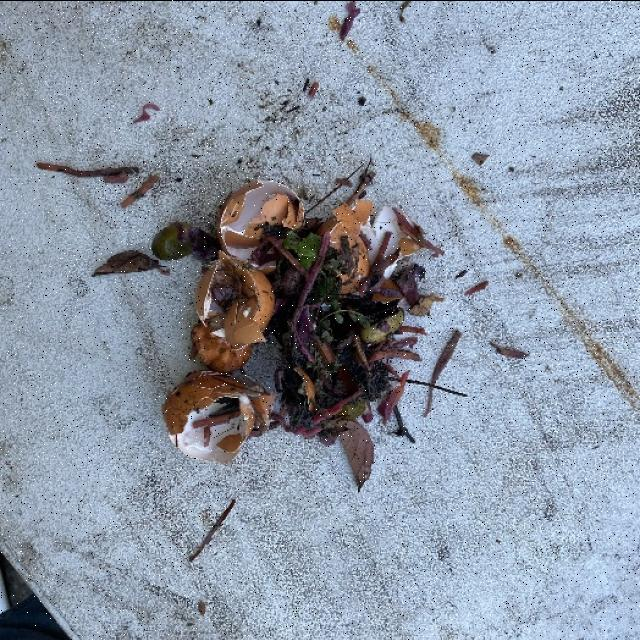organik: (285, 206, 421, 464), (157, 364, 276, 474), (180, 268, 278, 368), (204, 175, 310, 265)
